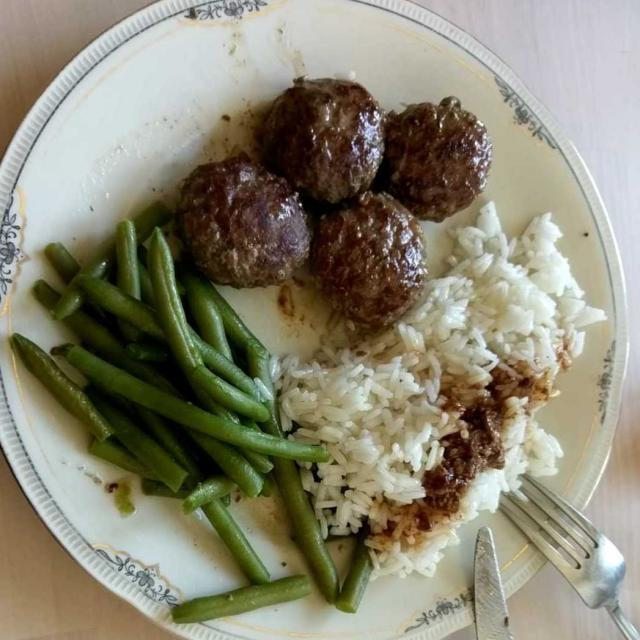beans: (15, 186, 401, 632)
rice: (278, 209, 593, 556)
